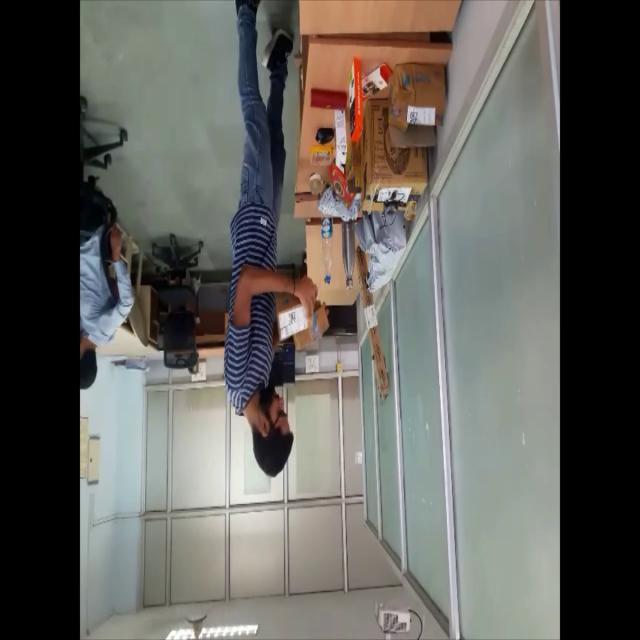normal: (220, 0, 316, 493)
